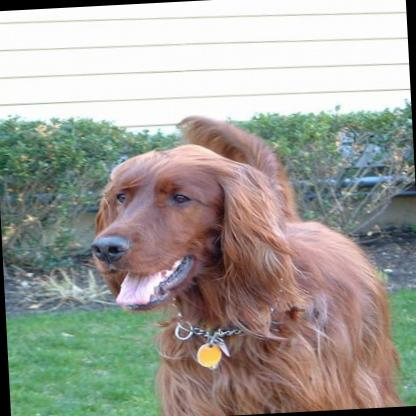Irish_setter: (81, 104, 401, 416)
